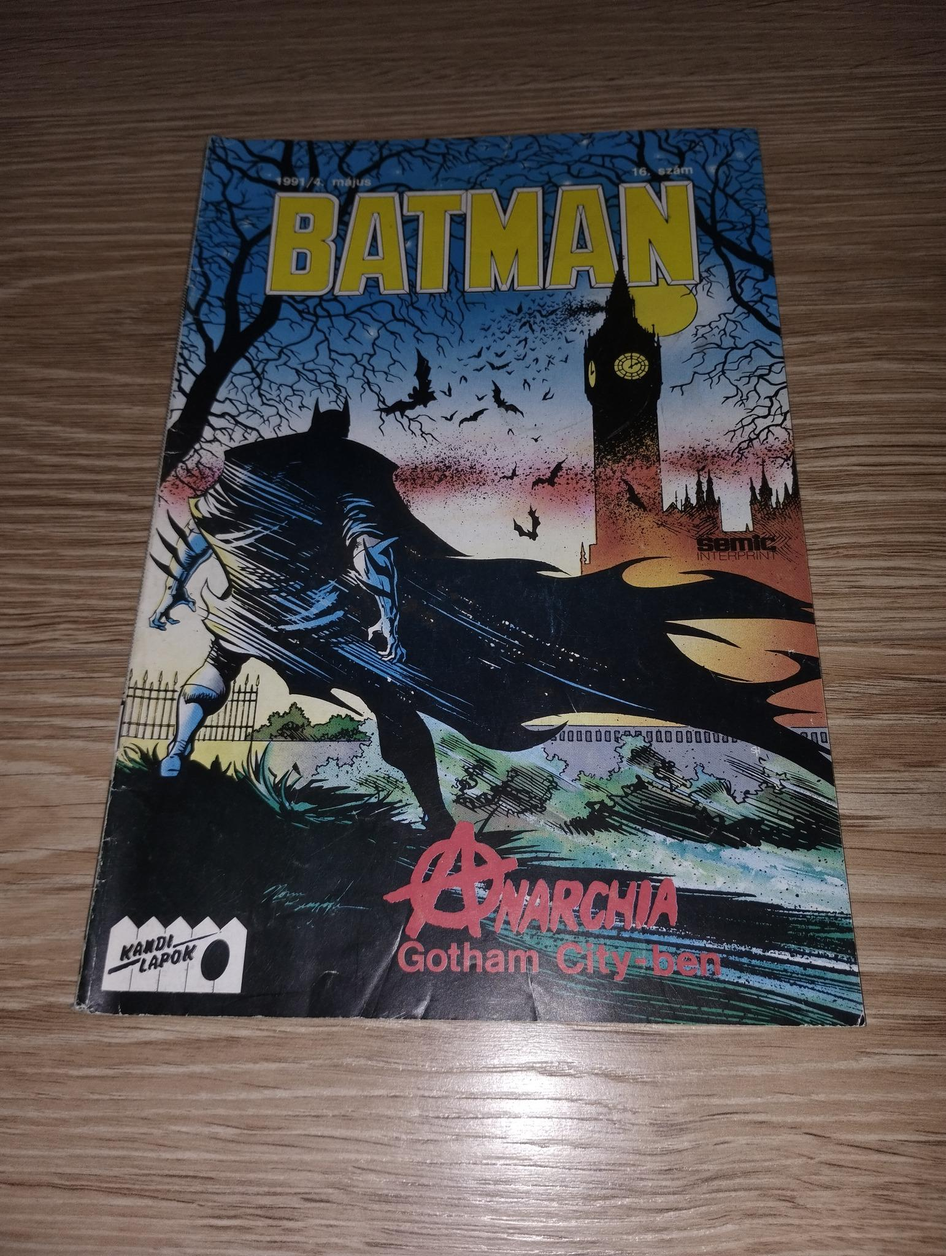comic: (78, 124, 870, 1024)
